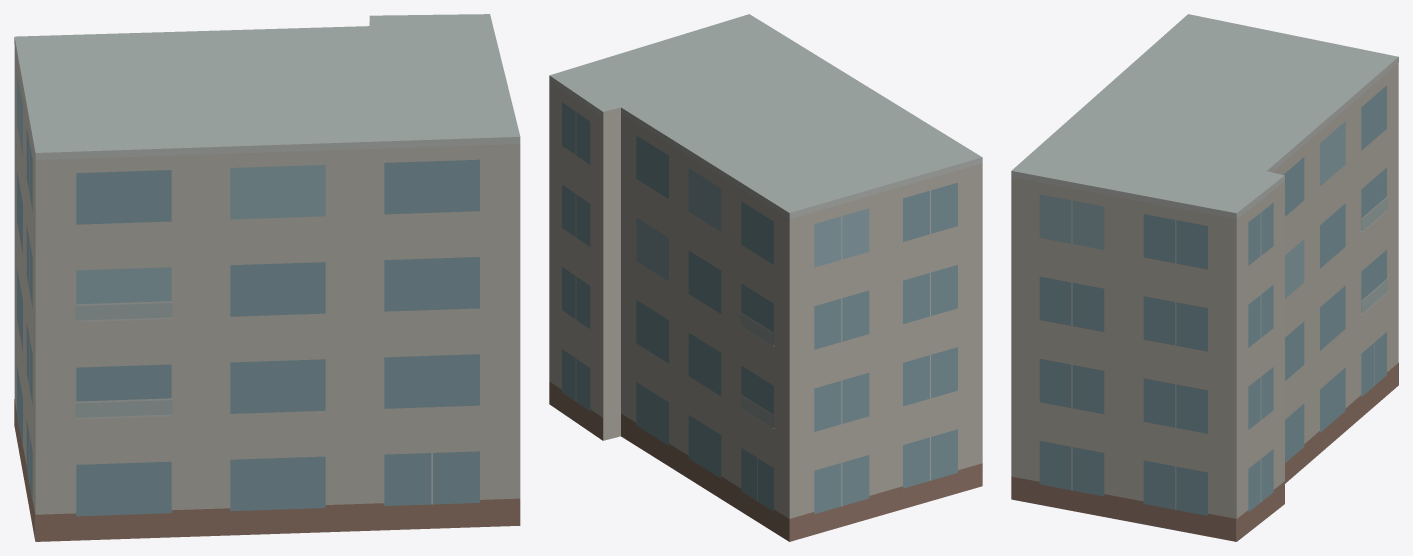
File: survey-upis-32798841.glb
The picture shows the model from 3 angles, left to right: view 1: azimuth 30°, elevation 25°; view 2: azimuth 150°, elevation 25°; view 3: azimuth 270°, elevation 25°; orthographic projection. The views are drawn at different scales.
Parts seen in each view (by area): view 1: survey-upis-32798841.tmp; view 2: survey-upis-32798841.tmp; view 3: survey-upis-32798841.tmp.
Part boxes in pixels (x1=…): survey-upis-32798841.tmp: x1=14, y1=14, x2=520, y2=541; survey-upis-32798841.tmp: x1=549, y1=14, x2=982, y2=541; survey-upis-32798841.tmp: x1=1011, y1=14, x2=1398, y2=541.
Size of the model in its own units: 17.18 by 13.2 by 14.12.
